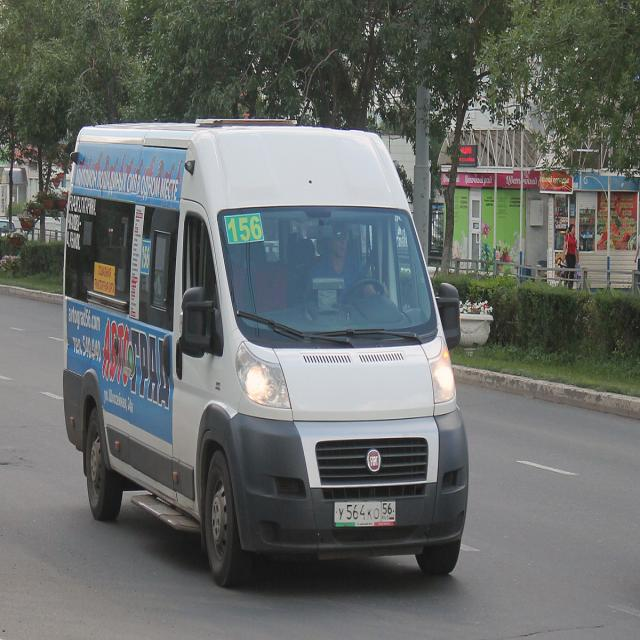number-of-bus: (227, 216, 265, 243), (142, 242, 152, 273)
